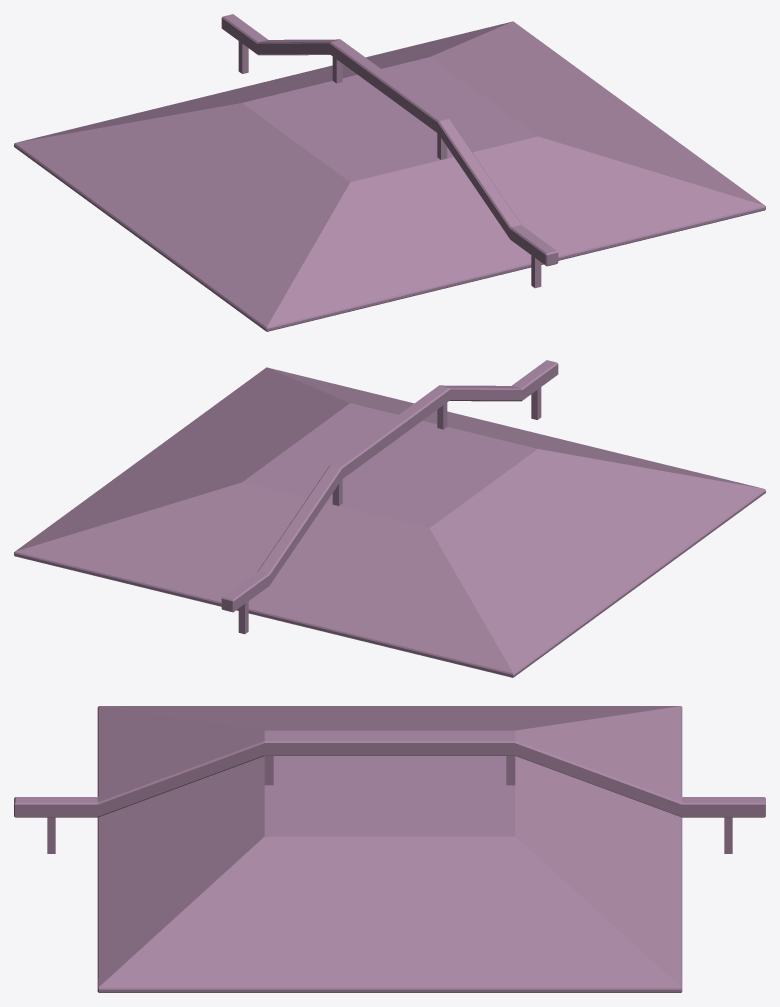
The model's file is mesh_skatePyramidSolo_v04.fbx.
3 renders of one model, top to bottom at view 1: azimuth 30°, elevation 25°; view 2: azimuth 150°, elevation 25°; view 3: azimuth 270°, elevation 25°, orthographic. The views are drawn at different scales.
Visible parts, largest first — view 1: mesh_skatePyramidSolo_v03; view 2: mesh_skatePyramidSolo_v03; view 3: mesh_skatePyramidSolo_v03.
Boxes of the visible parts, x1,y1,x2,y2 form: mesh_skatePyramidSolo_v03: (14, 14, 765, 331); mesh_skatePyramidSolo_v03: (14, 360, 765, 677); mesh_skatePyramidSolo_v03: (14, 706, 765, 992).
Bounding box in the file's own units: 40.01 × 7.55 × 45.
